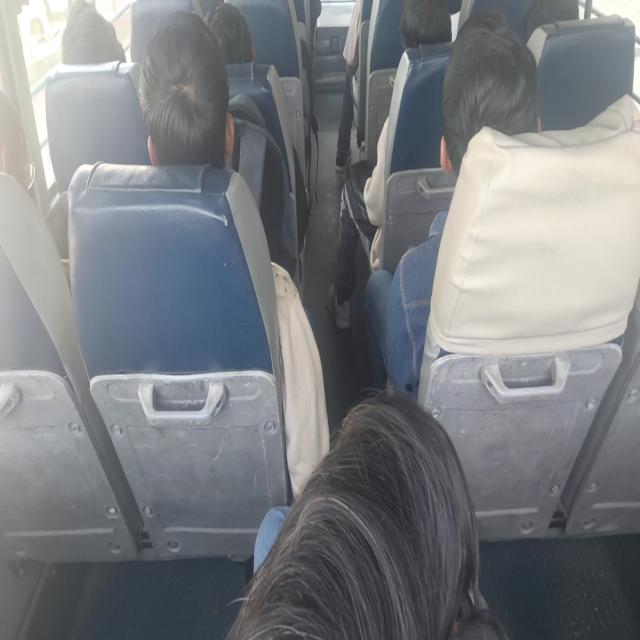person: (138, 9, 330, 499), (226, 387, 506, 638), (363, 20, 541, 398), (138, 9, 298, 280), (326, 0, 453, 330), (138, 10, 235, 168), (326, 114, 389, 330), (335, 0, 362, 172), (60, 0, 126, 65), (0, 88, 35, 192), (204, 0, 255, 64), (399, 0, 452, 49)
